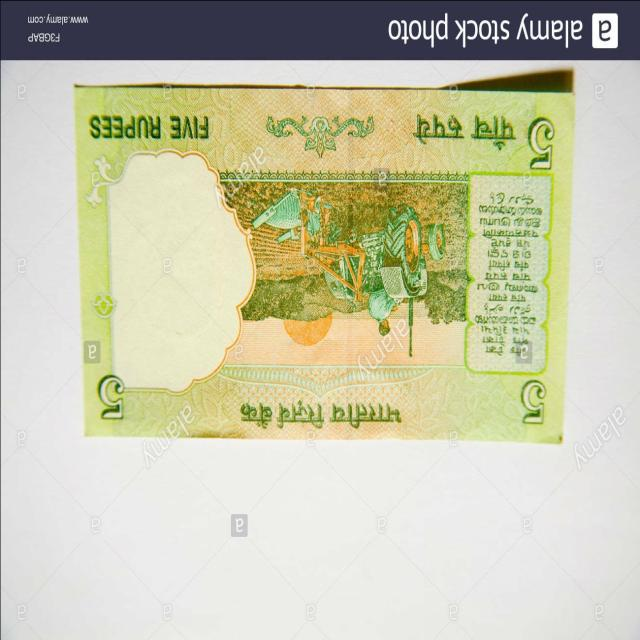5IndianRupees: (86, 88, 575, 440)
